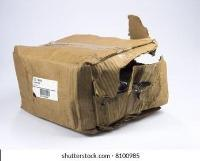damaged package: (91, 15, 168, 102)
undamaged: (12, 13, 172, 138)
